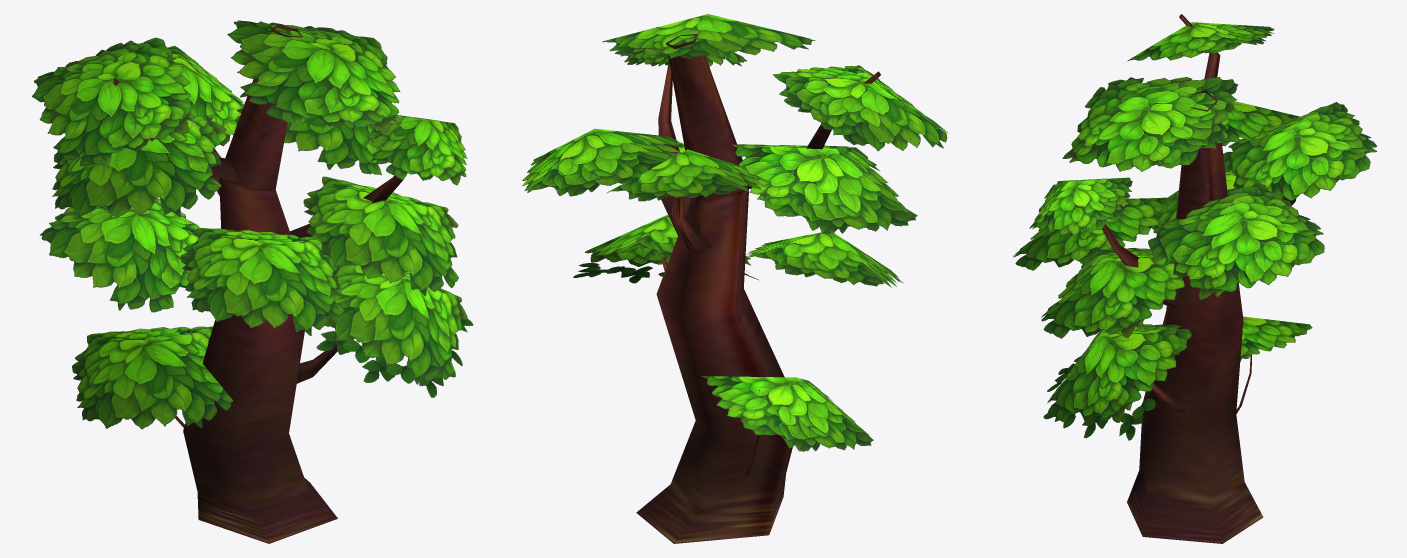
File: Tree01.fbx
3 renders of one model, left to right at view 1: azimuth 30°, elevation 25°; view 2: azimuth 150°, elevation 25°; view 3: azimuth 270°, elevation 25°, orthographic. The views are drawn at different scales.
Parts seen in each view (by area): view 1: polySurface501; view 2: polySurface501; view 3: polySurface501.
Part boxes in pixels (left/top/right/bottom): polySurface501: left=32, top=20, right=473, bottom=543; polySurface501: left=522, top=14, right=948, bottom=543; polySurface501: left=1013, top=14, right=1377, bottom=543.
Size of the model in its own units: 6.9 by 7.64 by 6.3.
